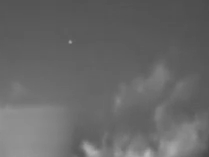Target: (69, 41, 72, 44)
